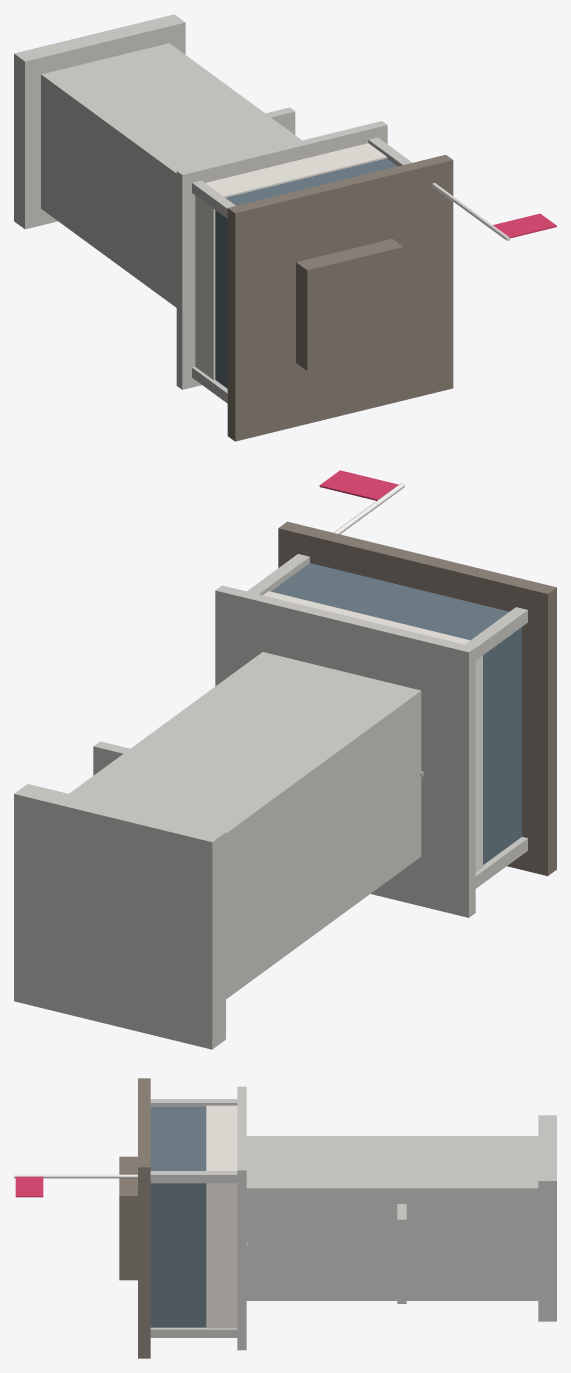
Rendered from r-116-regatta-point-finish-tower.glb.
3 views of the same model, one above another, from view 1: azimuth 30°, elevation 25°; view 2: azimuth 150°, elevation 25°; view 3: azimuth 270°, elevation 25° (orthographic). The views are drawn at different scales.
Visible parts, largest first — view 1: structure, roof, booth-walls, windows, flag; view 2: structure, roof, windows, booth-walls, flag; view 3: structure, windows, booth-walls, roof, flag, flagpole.
Part boxes in pixels (left/top/right/bottom): structure: left=14, top=14, right=412, bottom=403; roof: left=227, top=154, right=453, bottom=441; booth-walls: left=195, top=143, right=386, bottom=379; windows: left=215, top=158, right=397, bottom=388; flag: left=493, top=213, right=556, bottom=238; structure: left=14, top=554, right=527, bottom=1049; roof: left=278, top=521, right=556, bottom=876; windows: left=271, top=563, right=521, bottom=864; booth-walls: left=263, top=591, right=482, bottom=872; flag: left=319, top=470, right=398, bottom=500; structure: left=150, top=1086, right=556, bottom=1350; windows: left=150, top=1107, right=206, bottom=1327; booth-walls: left=206, top=1105, right=248, bottom=1328; roof: left=119, top=1078, right=150, bottom=1358; flag: left=15, top=1176, right=43, bottom=1197; flagpole: left=14, top=1174, right=137, bottom=1178.
Bounding box in the file's own units: 7750 × 6800 × 17500.
